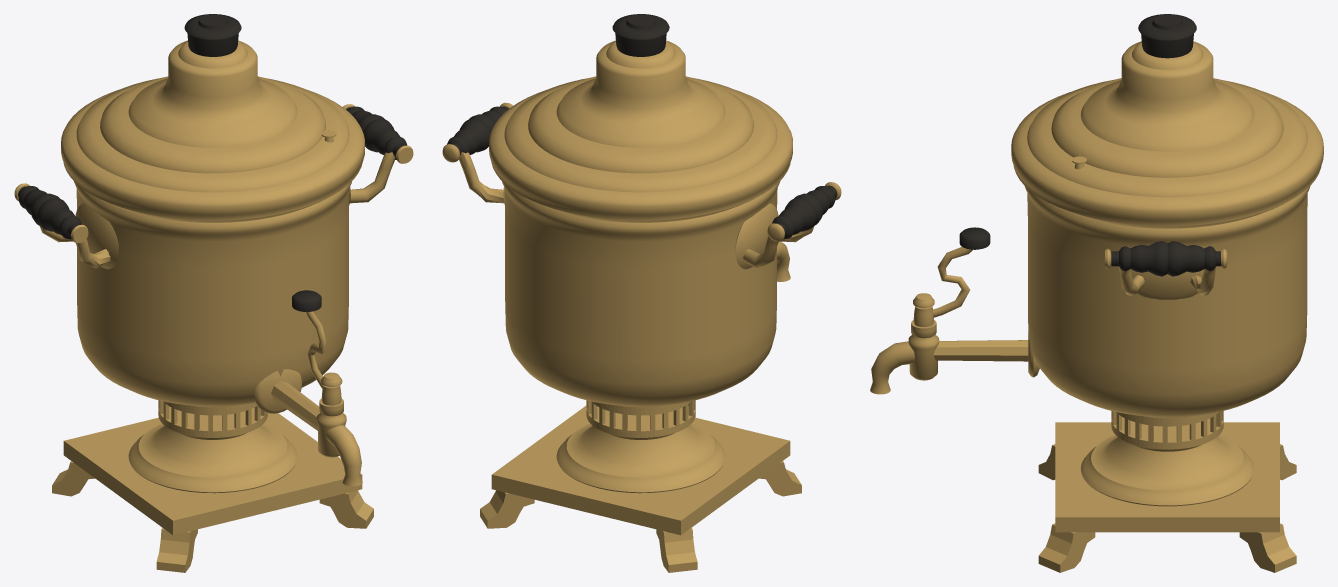
The model's file is NEW458_samovar_LOD0.glb.
3 renders of one model, left to right at view 1: azimuth 30°, elevation 25°; view 2: azimuth 150°, elevation 25°; view 3: azimuth 270°, elevation 25°, orthographic. The views are drawn at different scales.
Visible parts, largest first — view 1: Reservoir_closed, Stepped_lid_closed, Square_base_plate, Pedestal_turned, Perforated_neck_24_open_vents, Top_cap_fixed, Turned_handle_grip_-1, Turned_handle_grip_1, Handle_leaf_plate_-1, Foot_-1_-1, Valve_fixed_body, Foot_1_-1 (+8 smaller); view 2: Reservoir_closed, Stepped_lid_closed, Square_base_plate, Pedestal_turned, Perforated_neck_24_open_vents, Top_cap_fixed, Turned_handle_grip_-1, Turned_handle_grip_1, Handle_leaf_plate_-1, Foot_-1_1, Foot_1_1, Handle_bracket_1_1 (+2 smaller); view 3: Reservoir_closed, Stepped_lid_closed, Square_base_plate, Pedestal_turned, Turned_handle_grip_1, Perforated_neck_24_open_vents, Top_cap_fixed, Tap_supply_shank, Valve_fixed_body, Foot_1_-1, Foot_1_1, Handle_leaf_plate_1 (+3 smaller).
Part boxes in pixels (x1,y1,x2,y2): Reservoir_closed: (74, 181, 351, 407); Stepped_lid_closed: (61, 40, 364, 222); Square_base_plate: (63, 413, 362, 535); Pedestal_turned: (128, 406, 297, 493); Perforated_neck_24_open_vents: (158, 400, 267, 437); Top_cap_fixed: (184, 14, 241, 56); Turned_handle_grip_-1: (18, 186, 82, 239); Turned_handle_grip_1: (346, 106, 406, 159); Handle_leaf_plate_-1: (75, 203, 118, 269); Foot_-1_-1: (156, 528, 197, 572); Valve_fixed_body: (316, 372, 346, 457); Foot_1_-1: (319, 490, 373, 528); Reservoir_closed: (502, 181, 780, 407); Stepped_lid_closed: (489, 40, 792, 222); Square_base_plate: (491, 406, 790, 535); Pedestal_turned: (556, 406, 725, 493); Perforated_neck_24_open_vents: (586, 400, 695, 437); Top_cap_fixed: (612, 14, 669, 56); Turned_handle_grip_-1: (772, 185, 837, 239); Turned_handle_grip_1: (447, 106, 509, 159); Handle_leaf_plate_-1: (735, 203, 778, 269); Foot_-1_1: (656, 528, 697, 572); Foot_1_1: (480, 490, 534, 528); Handle_bracket_1_1: (459, 152, 503, 203); Reservoir_closed: (1024, 186, 1310, 417); Stepped_lid_closed: (1011, 41, 1323, 228); Square_base_plate: (1055, 422, 1279, 532); Pedestal_turned: (1080, 417, 1254, 506); Turned_handle_grip_1: (1111, 241, 1220, 276); Perforated_neck_24_open_vents: (1111, 411, 1223, 449); Top_cap_fixed: (1138, 14, 1196, 58); Tap_supply_shank: (933, 340, 1028, 361); Valve_fixed_body: (908, 293, 939, 380); Foot_1_-1: (1038, 523, 1095, 572); Foot_1_1: (1239, 523, 1296, 572); Handle_leaf_plate_1: (1131, 269, 1203, 299).
Bounding box in the file's own units: 0.3302 × 0.4318 × 0.3556.
